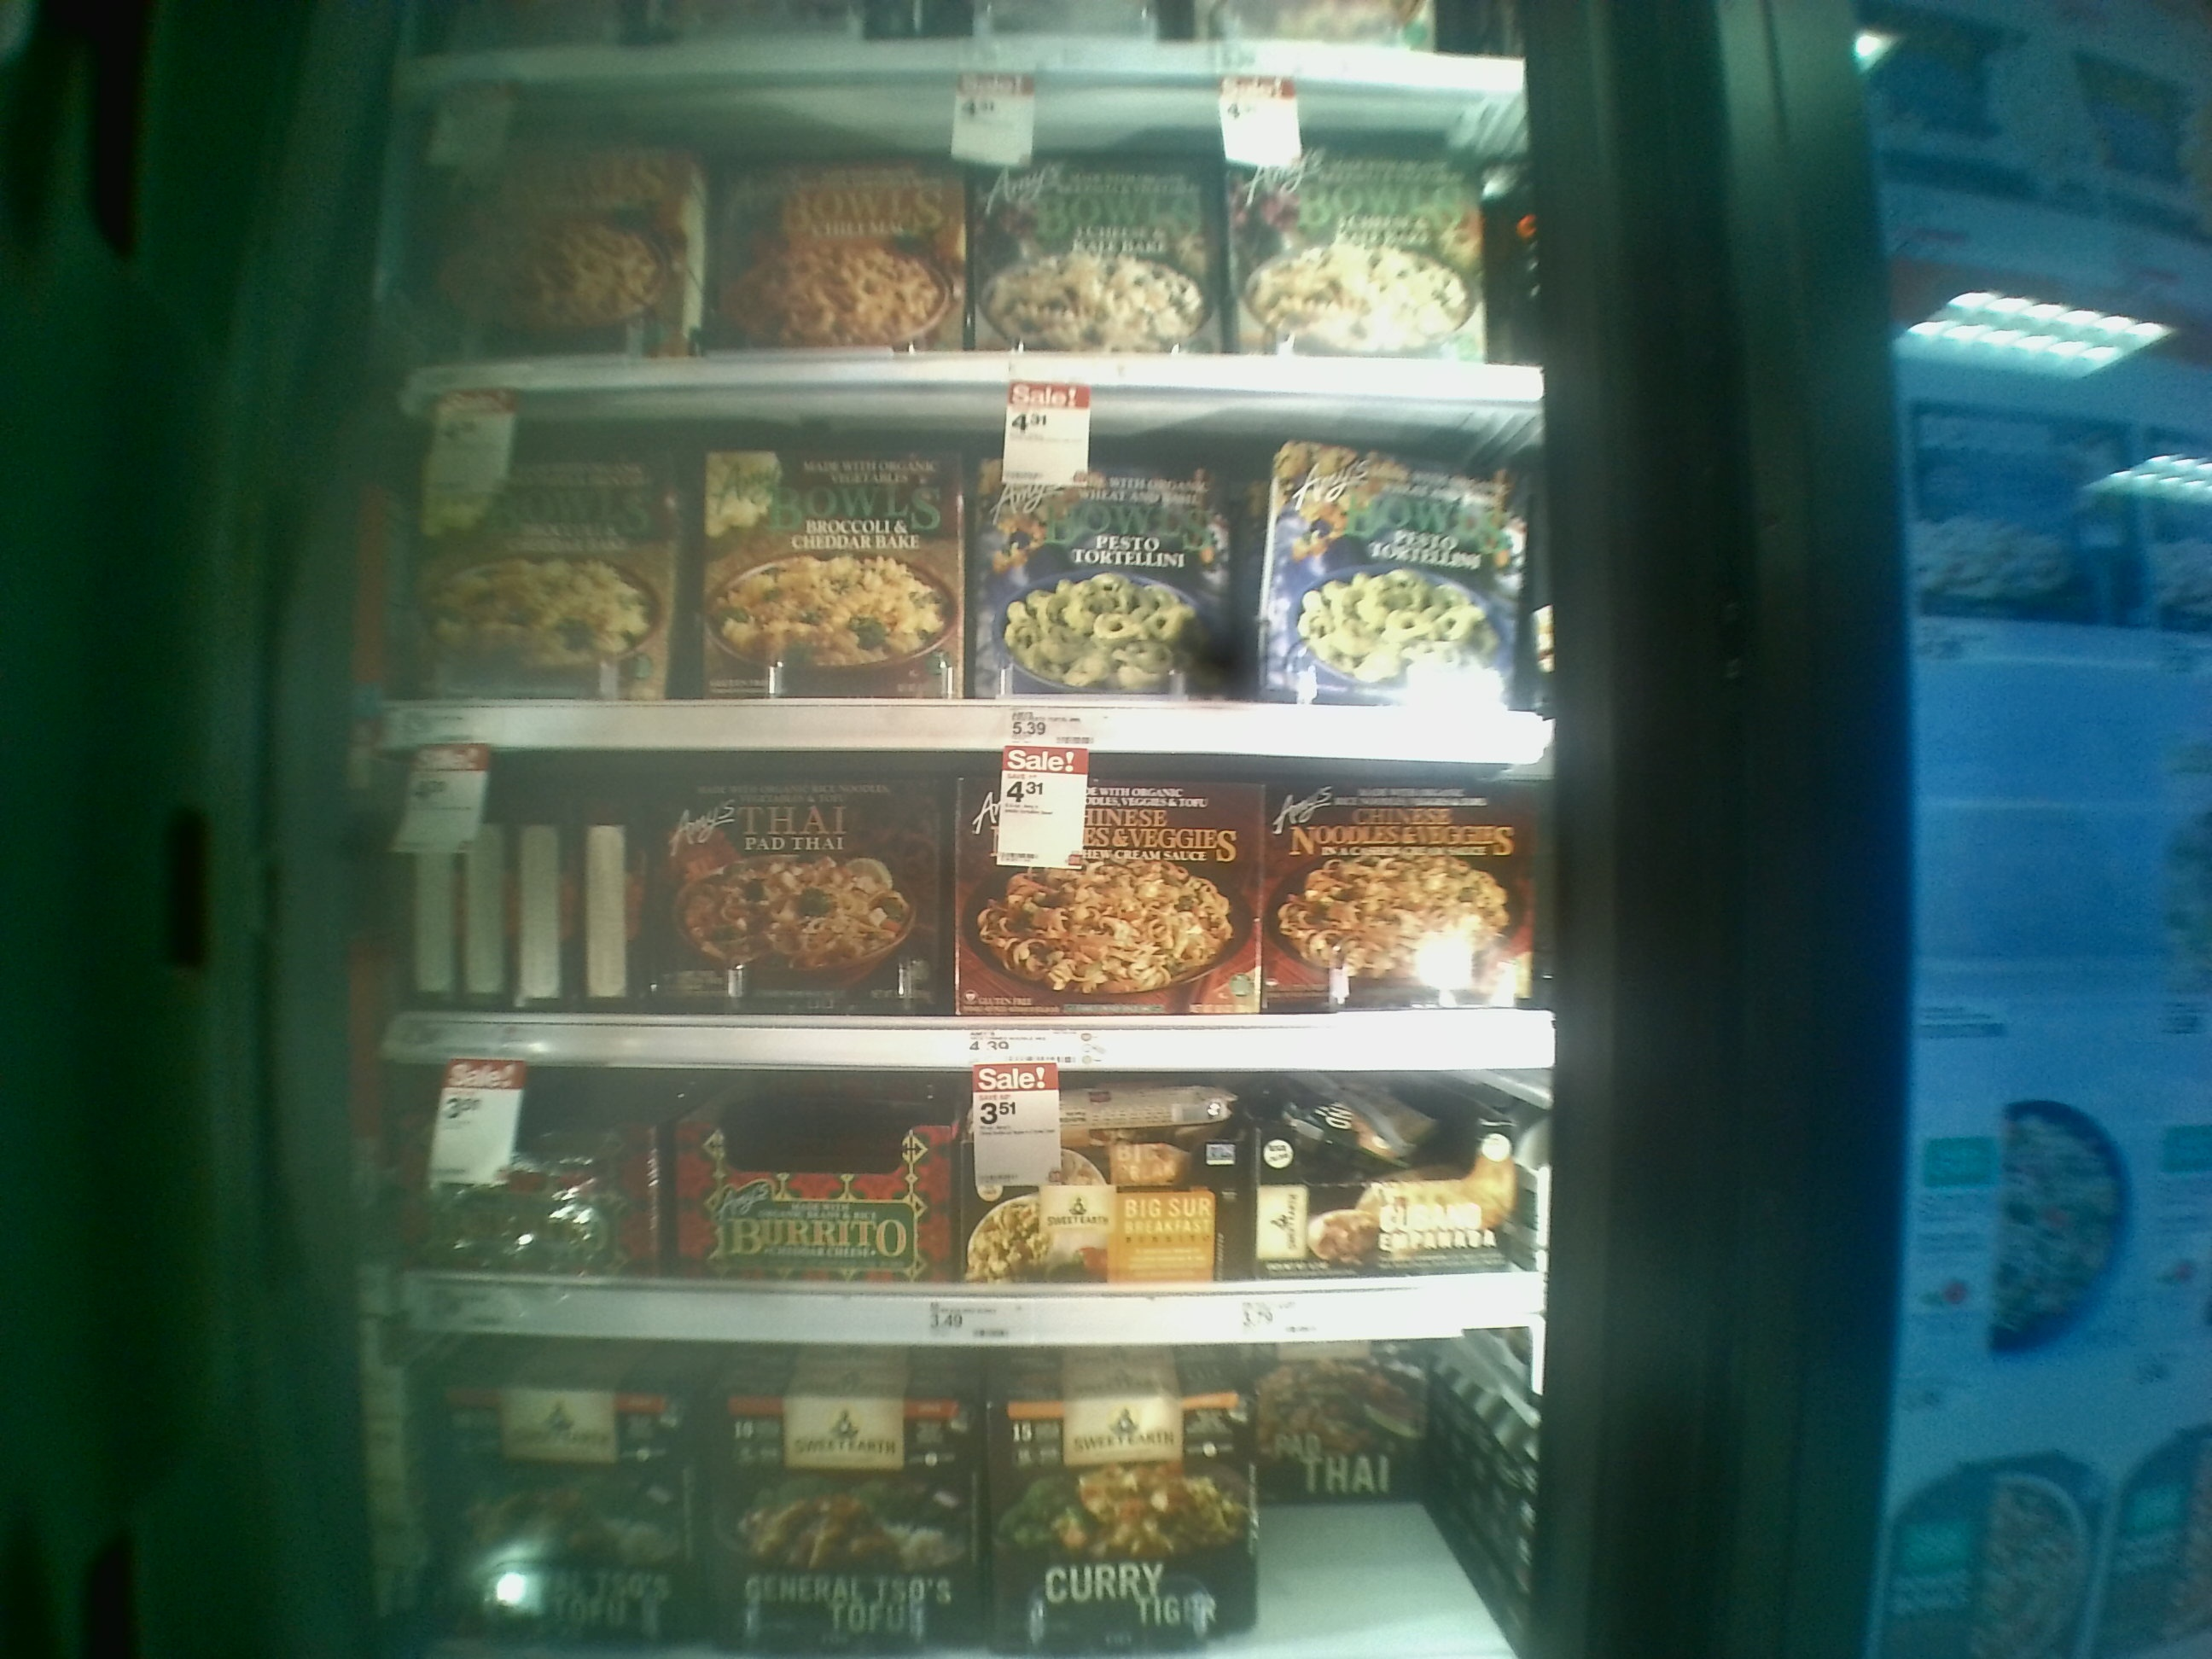frozen-food-shelf: (380, 403, 1595, 762), (371, 762, 1599, 1075), (383, 84, 1578, 404), (369, 1079, 1588, 1356)
